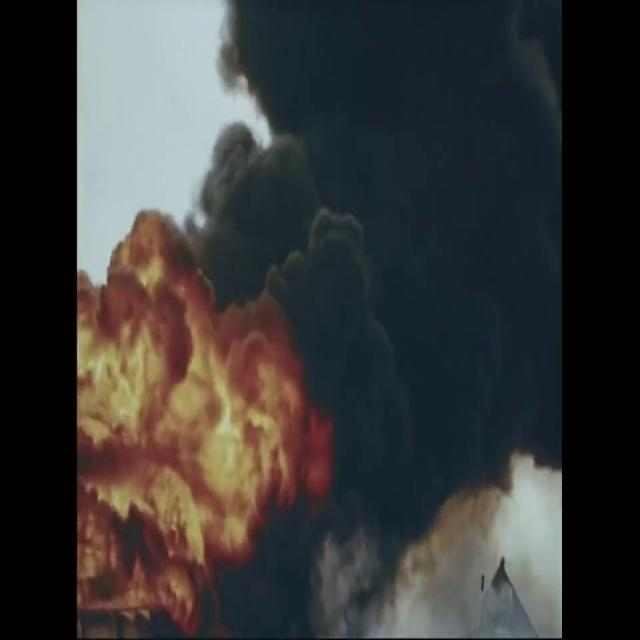explosion: (76, 0, 562, 640)
